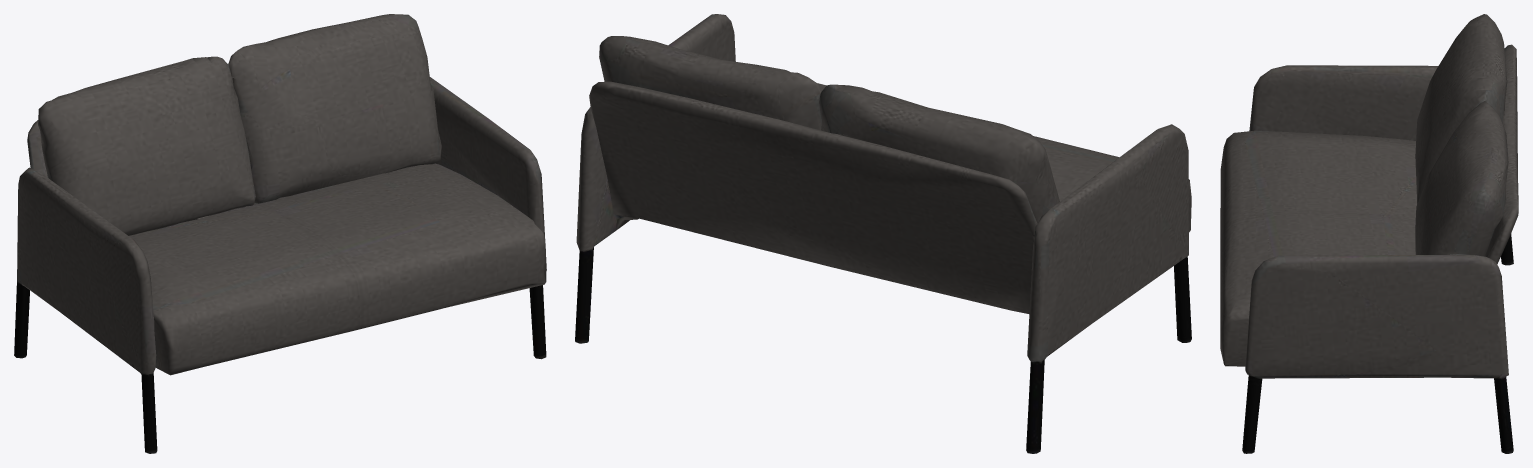
The model's file is 07 - GLOSTAD 2-seat sofa - Knisa dark grey.glb.
3 views of the same model, side by side, from view 1: azimuth 30°, elevation 25°; view 2: azimuth 150°, elevation 25°; view 3: azimuth 270°, elevation 25° (orthographic). The views are drawn at different scales.
Visible parts, largest first — view 1: model; view 2: model; view 3: model.
Boxes of the visible parts, x1,y1,x2,y2 form: model: [14, 14, 546, 453]; model: [575, 14, 1191, 453]; model: [1220, 14, 1518, 453].
Size of the model in its own units: 1.23 by 0.766 by 0.788.
1 material, 1 textured.
